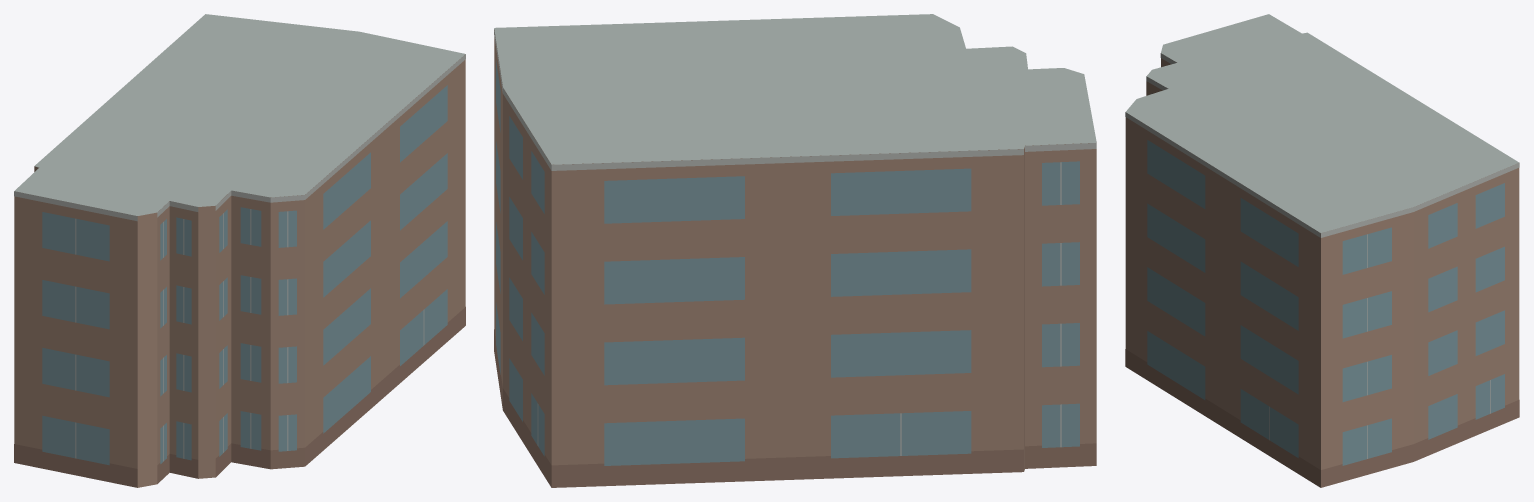
File: survey-upis-33030115.glb
3 views of the same model, side by side, from view 1: azimuth 30°, elevation 25°; view 2: azimuth 150°, elevation 25°; view 3: azimuth 270°, elevation 25° (orthographic). The views are drawn at different scales.
Visible parts, largest first — view 1: survey-upis-33030115.tmp; view 2: survey-upis-33030115.tmp; view 3: survey-upis-33030115.tmp.
Boxes of the visible parts, x1,y1,x2,y2 form: survey-upis-33030115.tmp: [14, 14, 465, 487]; survey-upis-33030115.tmp: [494, 14, 1096, 487]; survey-upis-33030115.tmp: [1125, 14, 1519, 487].
Size of the model in its own units: 23.54 by 12.75 by 17.88.
